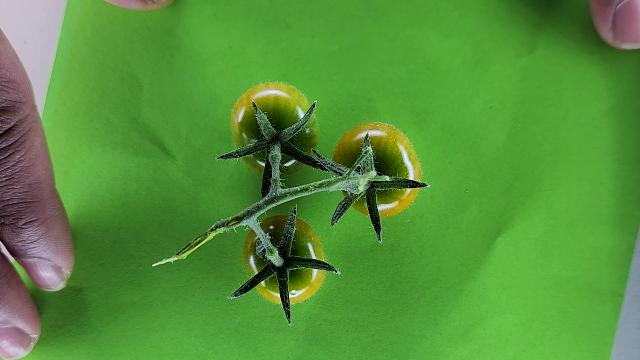Fully Grown: (332, 122, 423, 218), (230, 81, 320, 176), (243, 215, 328, 305)
